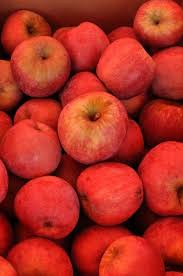apple: (65, 98, 130, 163), (19, 176, 83, 238), (84, 166, 150, 222), (13, 36, 70, 99), (99, 37, 153, 100), (11, 121, 69, 178), (136, 144, 182, 210), (78, 224, 134, 269), (55, 25, 113, 67), (104, 236, 160, 276), (13, 237, 68, 276), (133, 4, 183, 45), (148, 48, 183, 100)
